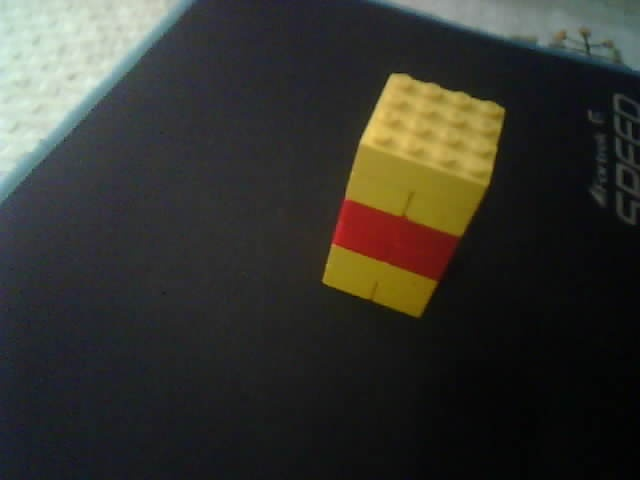lego: (321, 70, 507, 321)
